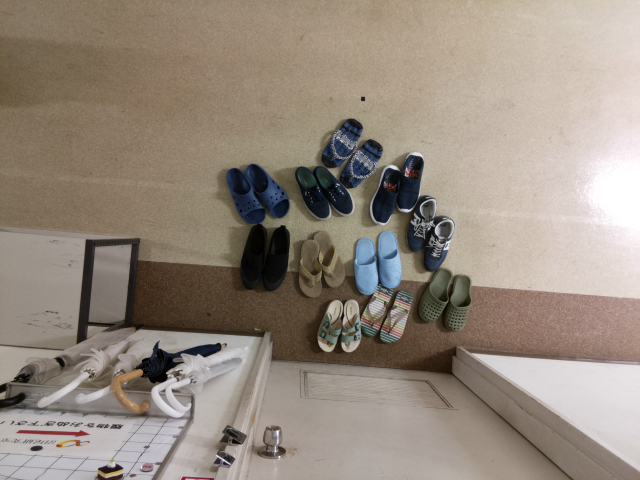Copy of Copy of Copy of Copy of Copy of Copy of Copy of shoes: (422, 214, 455, 272)
Copy of Copy of Copy of Copy of Copy of Copy of Copy of slipper: (354, 236, 378, 295)
Copy of Copy of Copy of Copy of Copy of Copy of shoes: (405, 195, 437, 251)
Copy of Copy of Copy of Copy of Copy of Copy of slipper: (377, 230, 403, 288)
Copy of Copy of Copy of Copy of Copy of sandal: (298, 238, 321, 298)
Copy of Copy of Copy of Copy of Copy of shoes: (369, 164, 400, 226)
Copy of Copy of Copy of Copy of Copy of slipper: (417, 267, 452, 322)
Copy of Copy of Copy of Copy of sandal: (312, 231, 345, 287)
Copy of Copy of Copy of Copy of shoes: (395, 150, 424, 213)
Copy of Copy of Copy of Copy of slipper: (441, 273, 473, 331)
Copy of Copy of Copy of sandal: (360, 283, 394, 337)
Copy of Copy of Copy of shoes: (312, 164, 355, 216)
Copy of Copy of sandal: (379, 289, 413, 343)
Copy of Copy of shoes: (293, 165, 331, 221)
Copy of sandal: (317, 299, 344, 352)
Copy of shoes: (240, 223, 267, 290)
Copy of slipper: (244, 163, 290, 219)
sandal: (339, 138, 383, 188), (320, 118, 363, 169), (339, 299, 362, 353)
shoes: (261, 224, 291, 291)
slipper: (225, 167, 266, 225)
